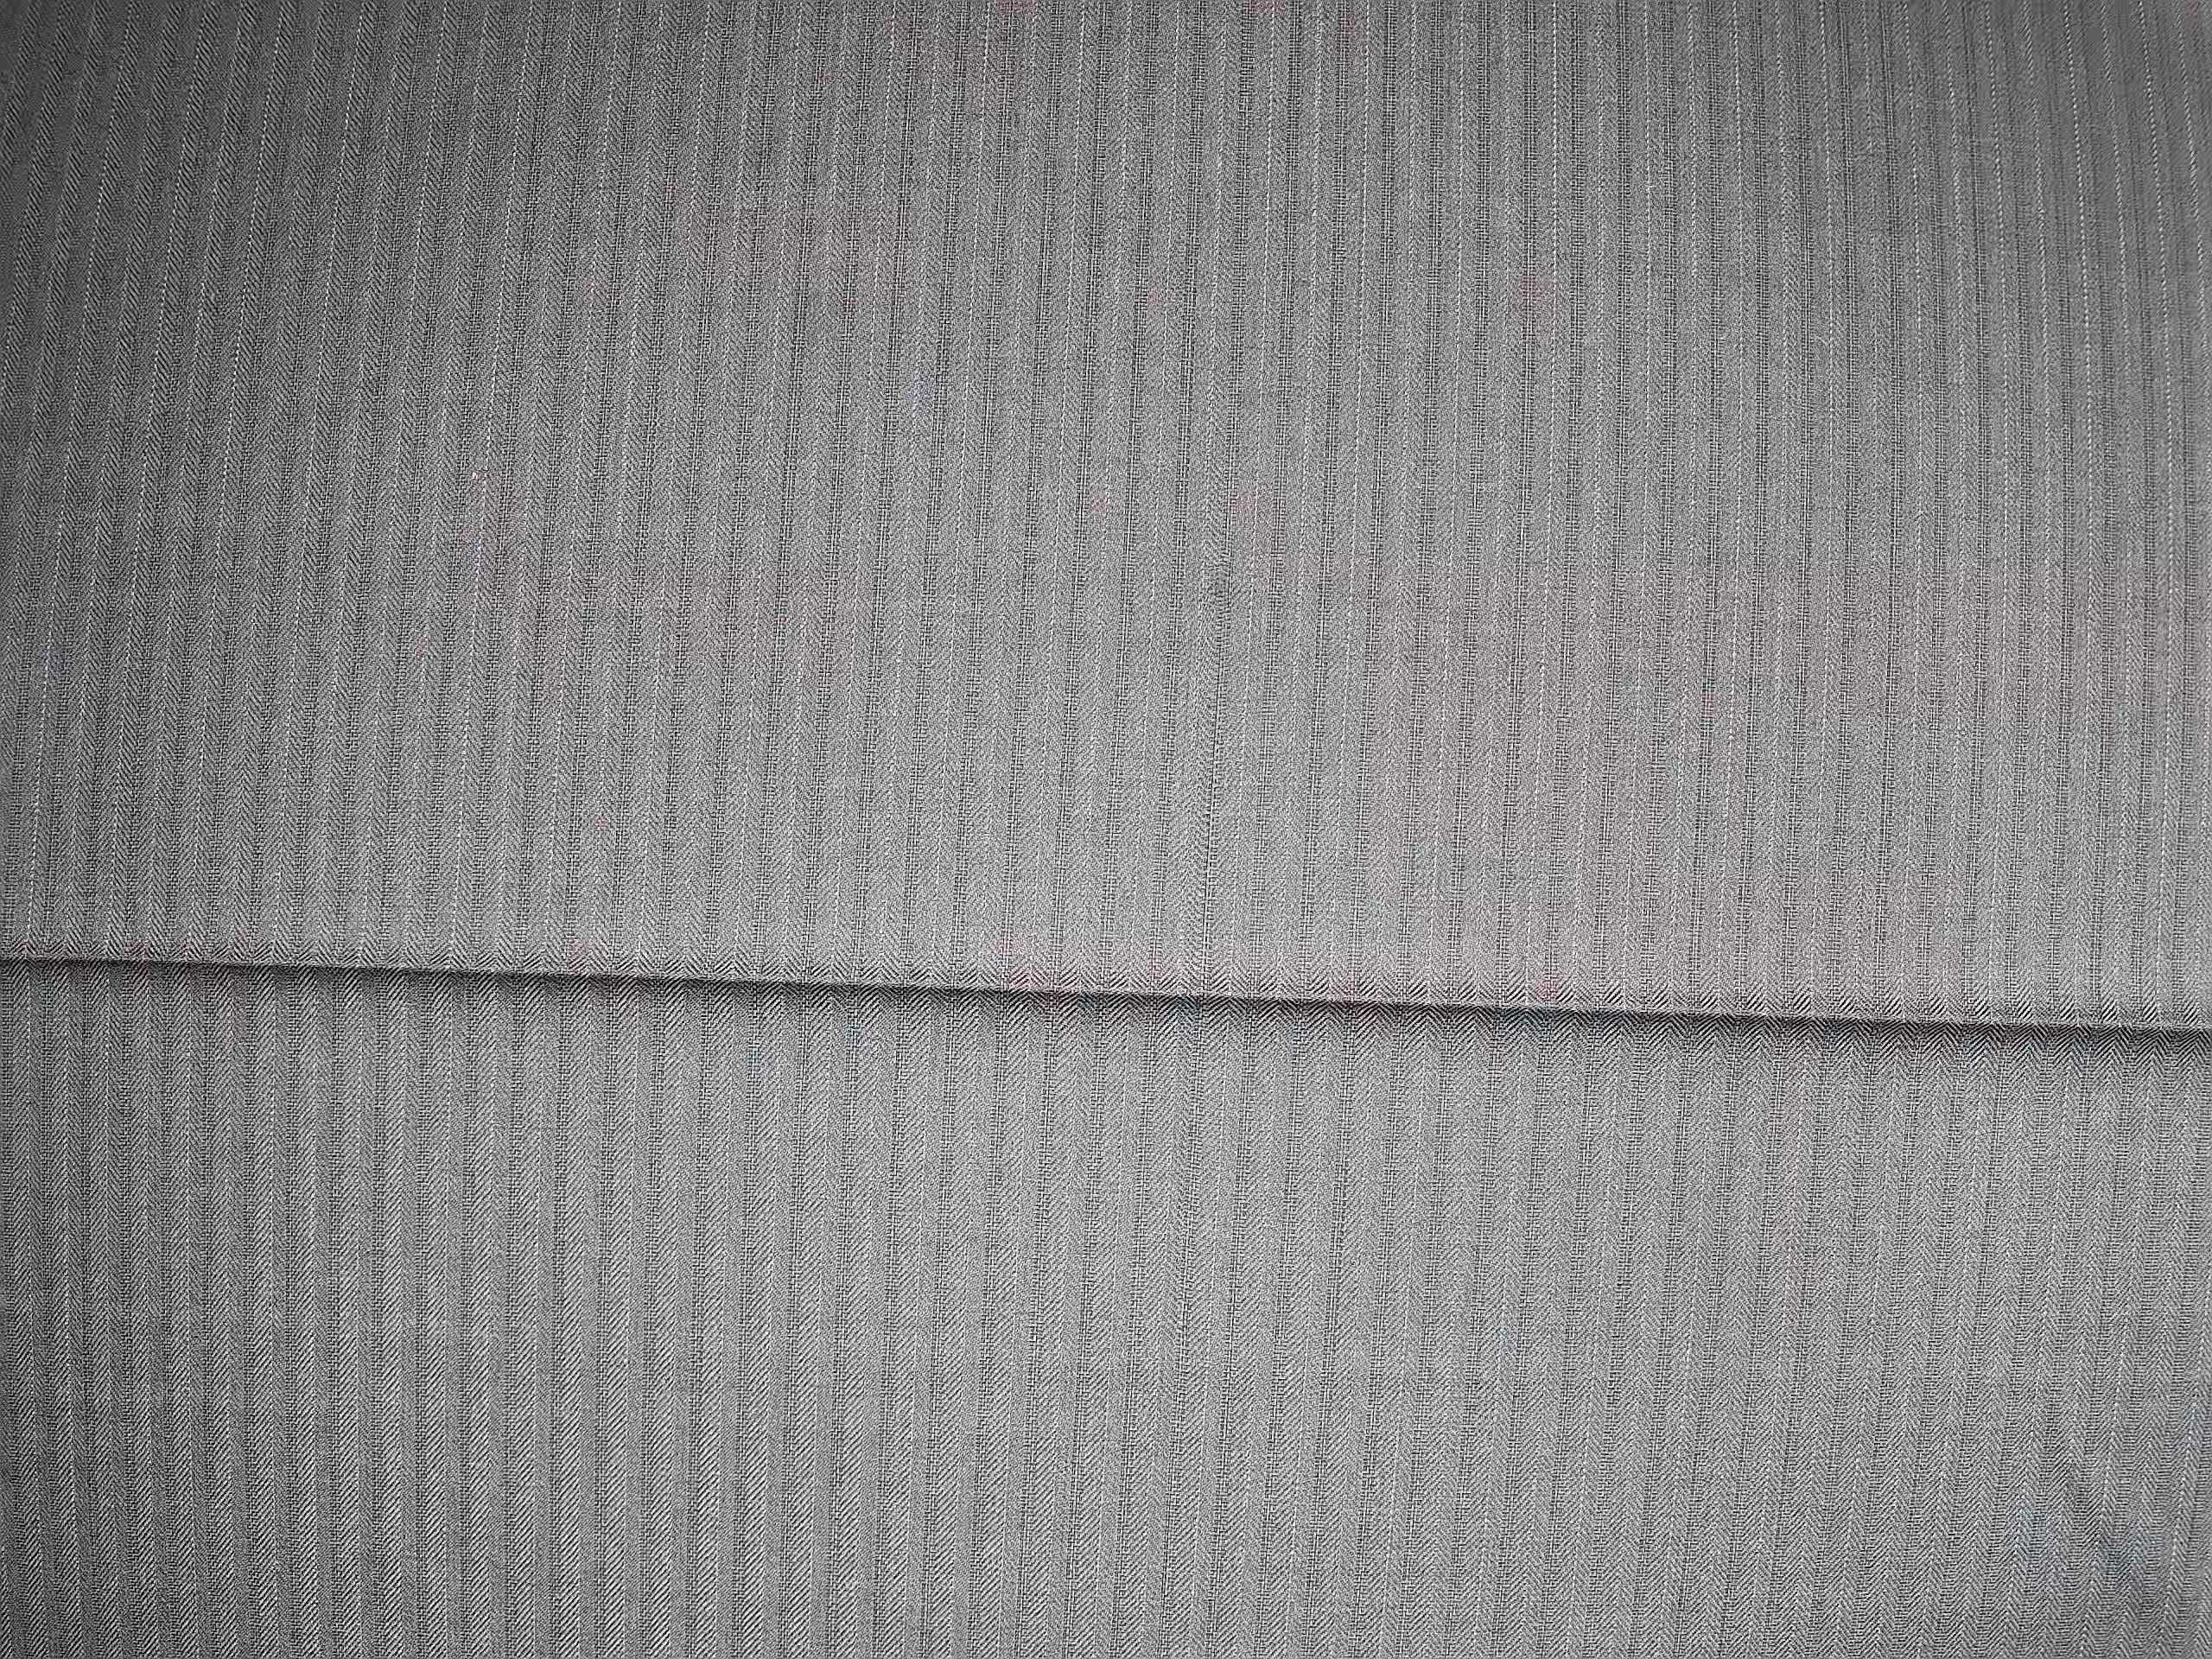hanging-warp: (1202, 472, 1249, 708)
